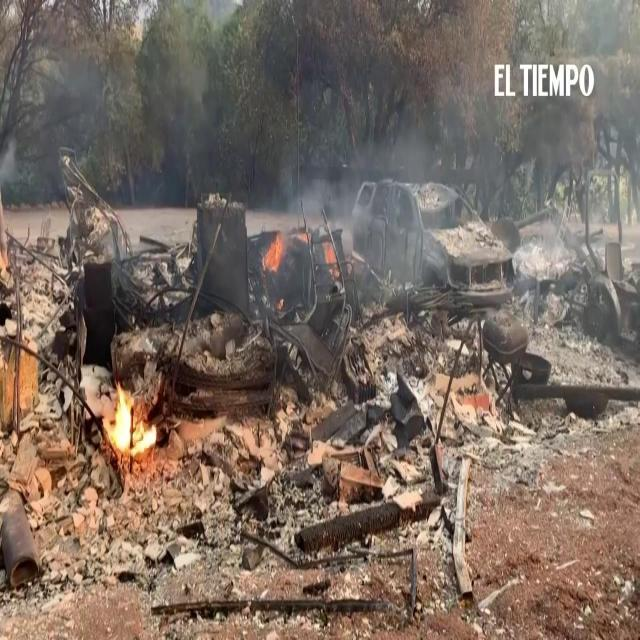Fire: (99, 378, 157, 450), (263, 234, 284, 268), (324, 238, 334, 266), (274, 297, 284, 311)
